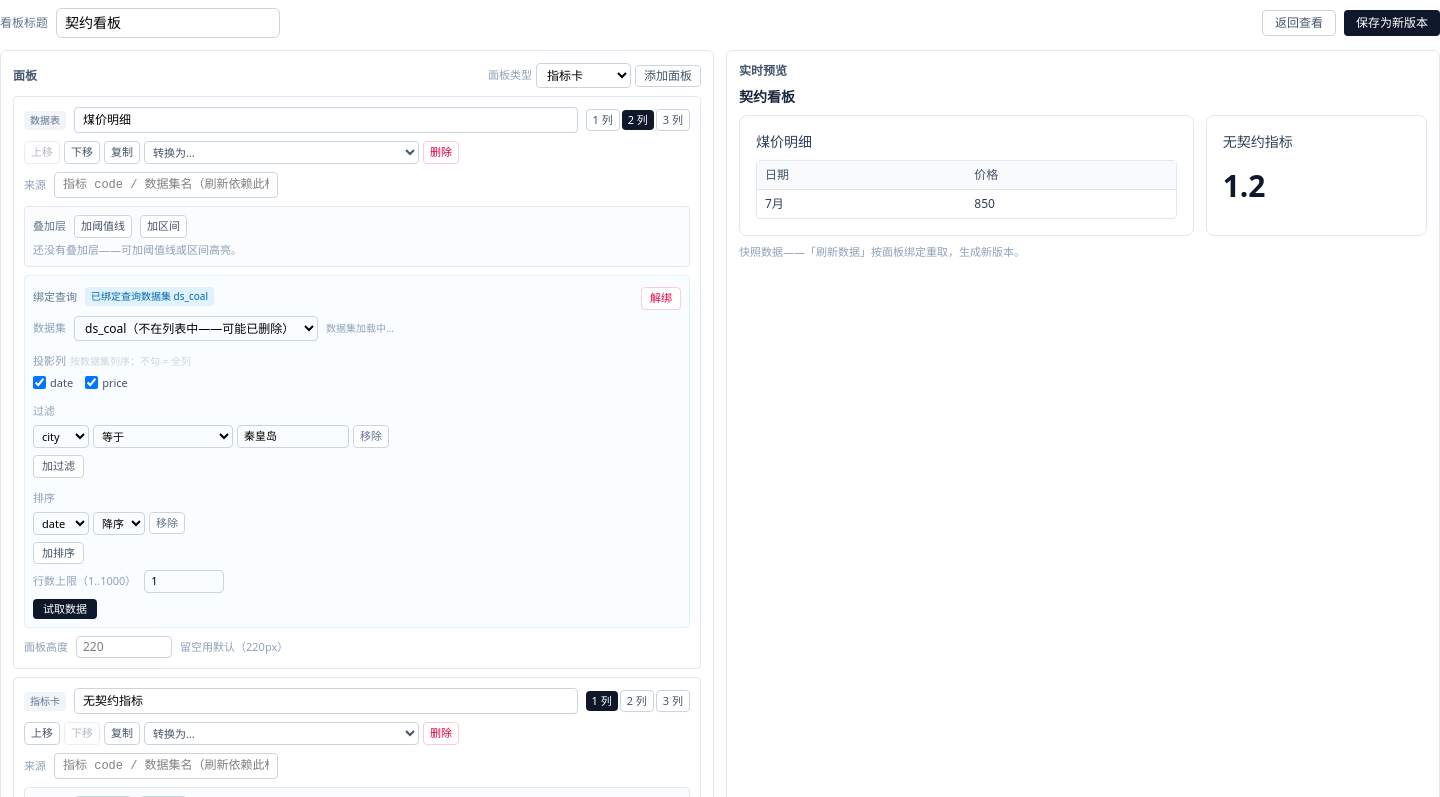
Scenario: DashboardEditor 绑定查询表单（wire-panel-query-binding 任务 2.1/2.2） › 解绑：清除面板 query（本地）、快照保留；保存 PUT 不带 query、段回「未绑定」
Expected: the element with test id "editor-query-form" is shown, x1=24 y1=275 x2=690 y2=628
Click the button with test id "editor-query-unbind": (661, 298) x1=641 y1=287 x2=681 y2=310
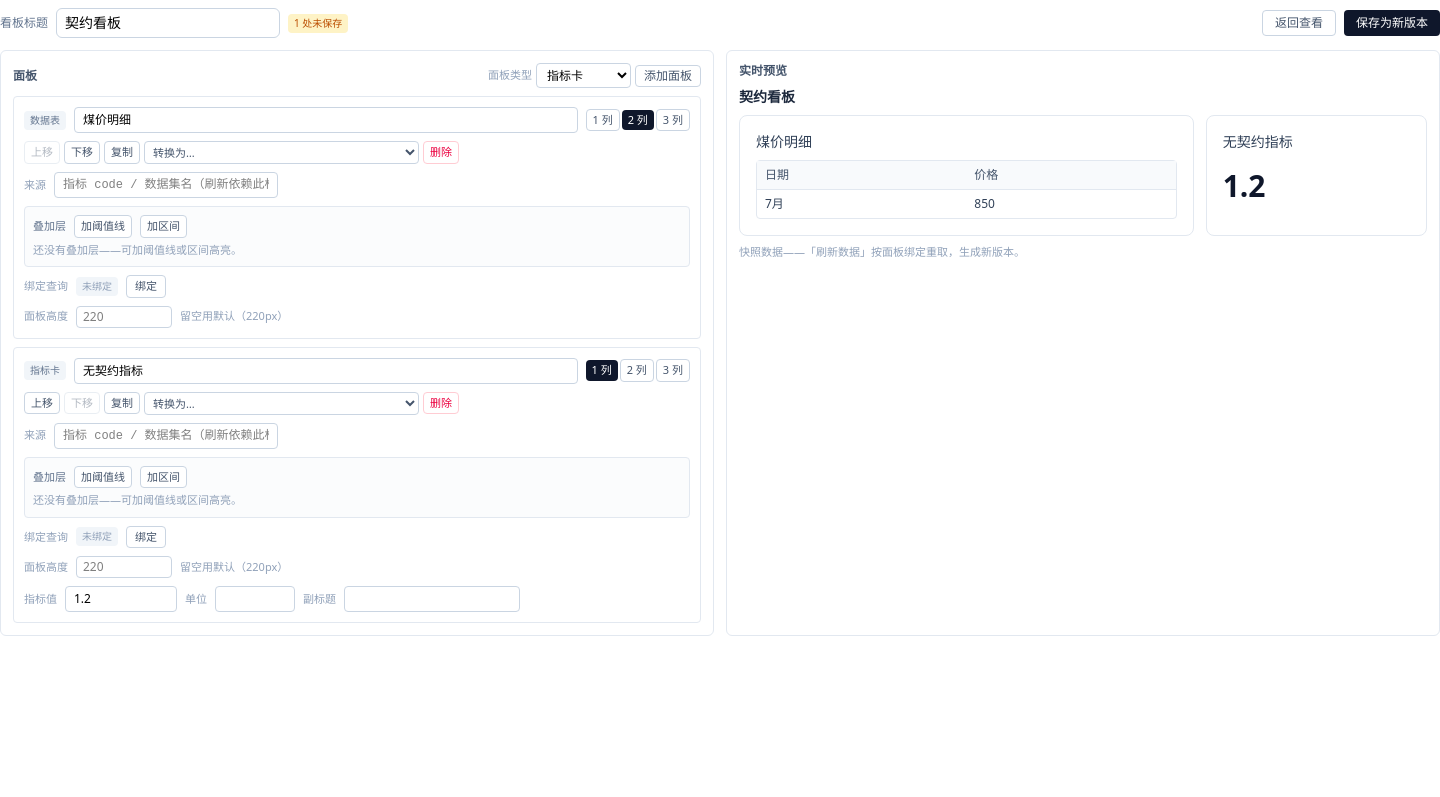
Expected: the text with test id "editor-query-unbound" below "数据表" reads "未绑定", x1=82 y1=279 x2=112 y2=293
Click the button with test id "editor-save": (1392, 23) x1=1344 y1=10 x2=1439 y2=36
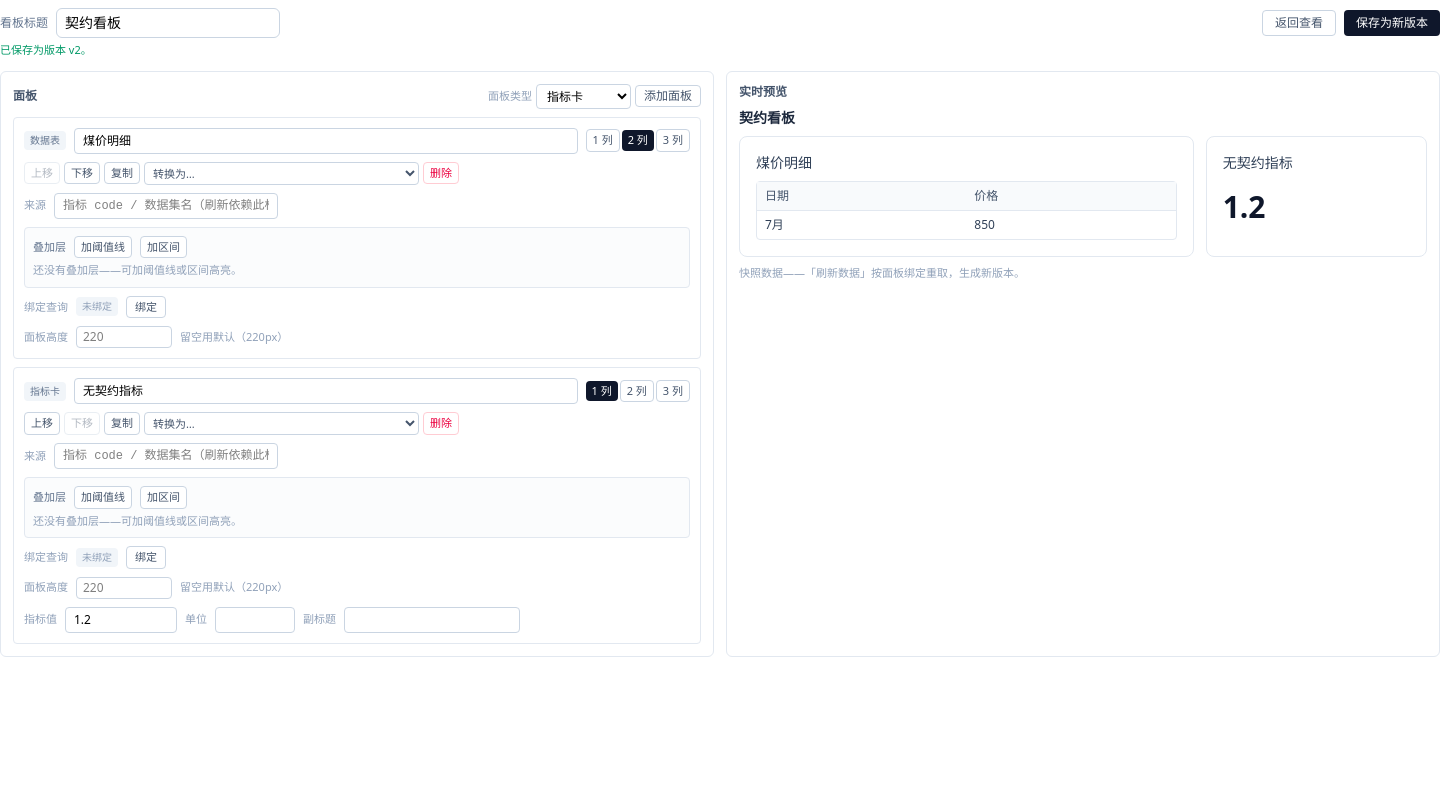
Expected: the text "已保存为版本 v2。" is shown, x1=0 y1=42 x2=92 y2=57
